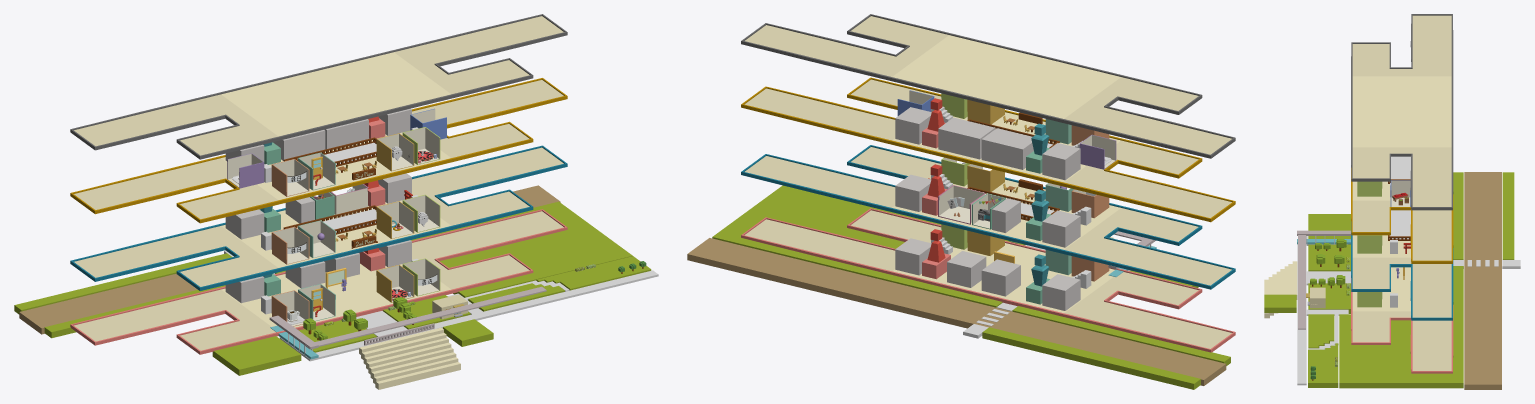
The model's file is souzou7.glb.
3 views of the same model, side by side, from view 1: azimuth 30°, elevation 25°; view 2: azimuth 150°, elevation 25°; view 3: azimuth 270°, elevation 25° (orthographic). The views are drawn at different scales.
Parts seen in each view (by area): view 1: F4, ground, F1, F2, F3, 立方体.001, 立方体.002, 3_3, 3_1, 2_3, 2_1, 1_3 (+24 smaller); view 2: F4, F1, F2, F3, 立方体.001, ground, 立方体.002, 立方体, 3_11, 3_12, 2_6, 1_11 (+28 smaller); view 3: F4, ground, 立方体.001, F1, F2, F3, 立方体.002, 立方体, 3_6, invisible2, 2_4, invisible5 (+3 smaller).
Boxes of the visible parts, bbox=[...] form: F4: bbox=[70, 14, 567, 159]; ground: bbox=[212, 201, 658, 389]; F1: bbox=[70, 209, 567, 354]; F2: bbox=[70, 145, 567, 290]; F3: bbox=[70, 78, 567, 223]; 立方体.001: bbox=[19, 185, 560, 334]; 立方体.002: bbox=[14, 253, 232, 314]; 3_3: bbox=[376, 133, 414, 171]; 3_1: bbox=[271, 159, 309, 196]; 2_3: bbox=[376, 201, 414, 238]; 2_1: bbox=[271, 226, 309, 264]; 1_3: bbox=[376, 264, 414, 302]; F4: bbox=[741, 14, 1235, 158]; F1: bbox=[741, 208, 1235, 352]; F2: bbox=[741, 145, 1235, 289]; F3: bbox=[741, 77, 1235, 222]; 立方体.001: bbox=[687, 238, 1226, 385]; ground: bbox=[712, 185, 1198, 307]; 立方体.002: bbox=[982, 327, 1200, 389]; 立方体: bbox=[1012, 306, 1230, 365]; 3_11: bbox=[981, 128, 1033, 169]; 3_12: bbox=[938, 117, 995, 159]; 2_6: bbox=[938, 185, 985, 224]; 1_11: bbox=[981, 259, 1020, 296]; F4: bbox=[1351, 14, 1453, 210]; ground: bbox=[1264, 214, 1463, 388]; 立方体.001: bbox=[1464, 172, 1501, 389]; F1: bbox=[1351, 267, 1453, 373]; F2: bbox=[1351, 221, 1453, 320]; F3: bbox=[1351, 168, 1453, 263]; 立方体.002: bbox=[1502, 172, 1514, 259]; 立方体: bbox=[1453, 172, 1463, 259]; 3_6: bbox=[1390, 180, 1410, 206]; invisible2: bbox=[1390, 210, 1410, 239]; 2_4: bbox=[1357, 235, 1382, 253]; invisible5: bbox=[1391, 156, 1410, 179].
Size of the model in its own units: 176 by 73.39 by 89.51.
